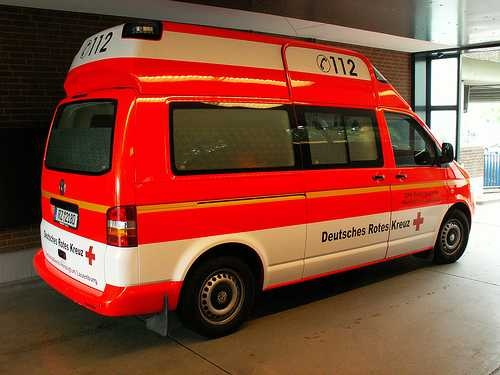Ambulance: (37, 16, 478, 324)
